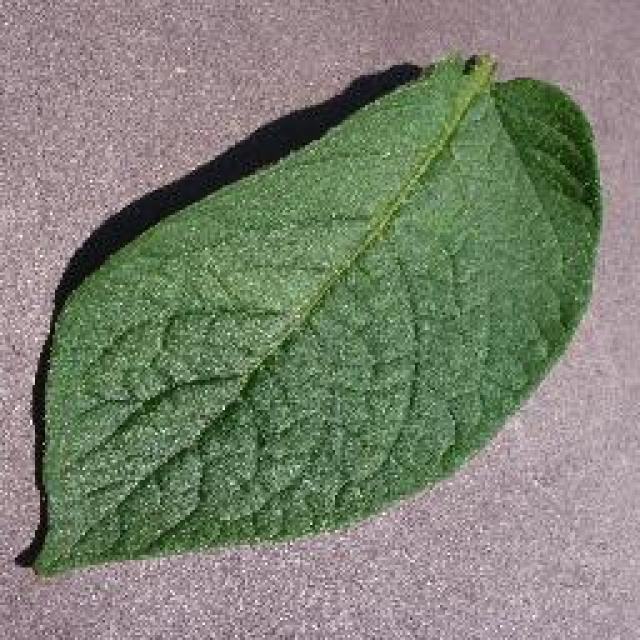Potato___healthy: (26, 44, 612, 586)
